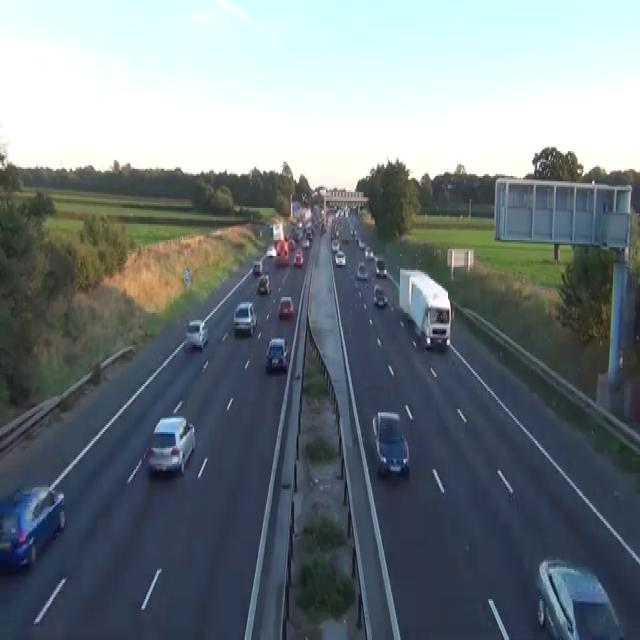Car: (535, 556, 626, 638), (0, 483, 65, 569), (145, 414, 195, 476), (372, 411, 409, 478), (232, 300, 257, 336), (265, 336, 288, 372), (184, 318, 208, 348), (274, 238, 289, 267), (372, 282, 387, 308), (278, 295, 294, 318), (441, 176, 466, 190), (257, 274, 271, 293), (355, 261, 368, 279), (375, 258, 387, 277), (293, 249, 303, 267), (252, 260, 262, 276), (335, 249, 345, 265), (266, 244, 276, 258), (364, 246, 373, 260), (331, 238, 340, 252), (210, 228, 222, 238), (301, 238, 309, 249), (305, 229, 313, 240), (319, 222, 325, 235), (358, 238, 365, 249), (288, 238, 295, 249), (367, 249, 373, 259)
Truck: (399, 266, 451, 348)
